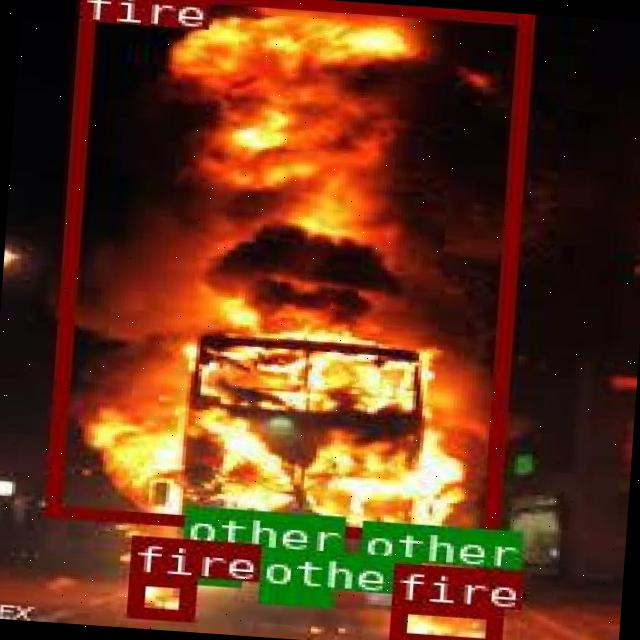fire: (44, 0, 532, 545), (387, 600, 499, 640), (126, 572, 194, 618)
